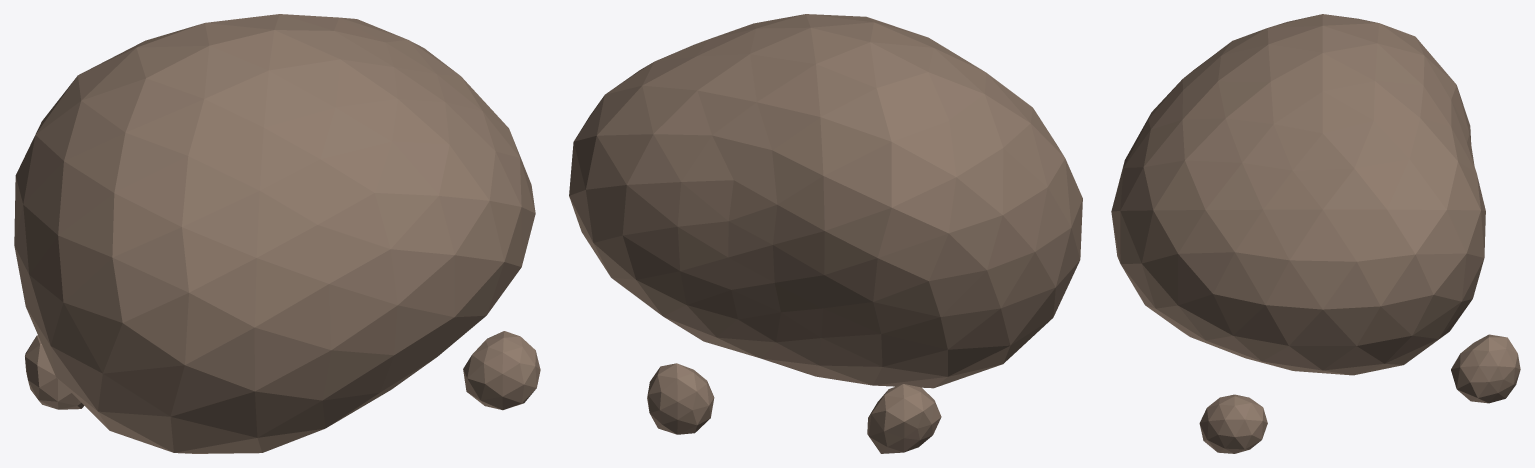
Rendered from Boulder.obj.
3 views of the same model, side by side, from view 1: azimuth 30°, elevation 25°; view 2: azimuth 150°, elevation 25°; view 3: azimuth 270°, elevation 25° (orthographic). The views are drawn at different scales.
Visible parts, largest first — view 1: Rock; view 2: Rock; view 3: Rock.
Part boxes in pixels (bbox=[...]): Rock: bbox=[14, 14, 540, 453]; Rock: bbox=[569, 14, 1082, 453]; Rock: bbox=[1111, 14, 1520, 453].
Size of the model in its own units: 9.76 by 7.41 by 8.37.
